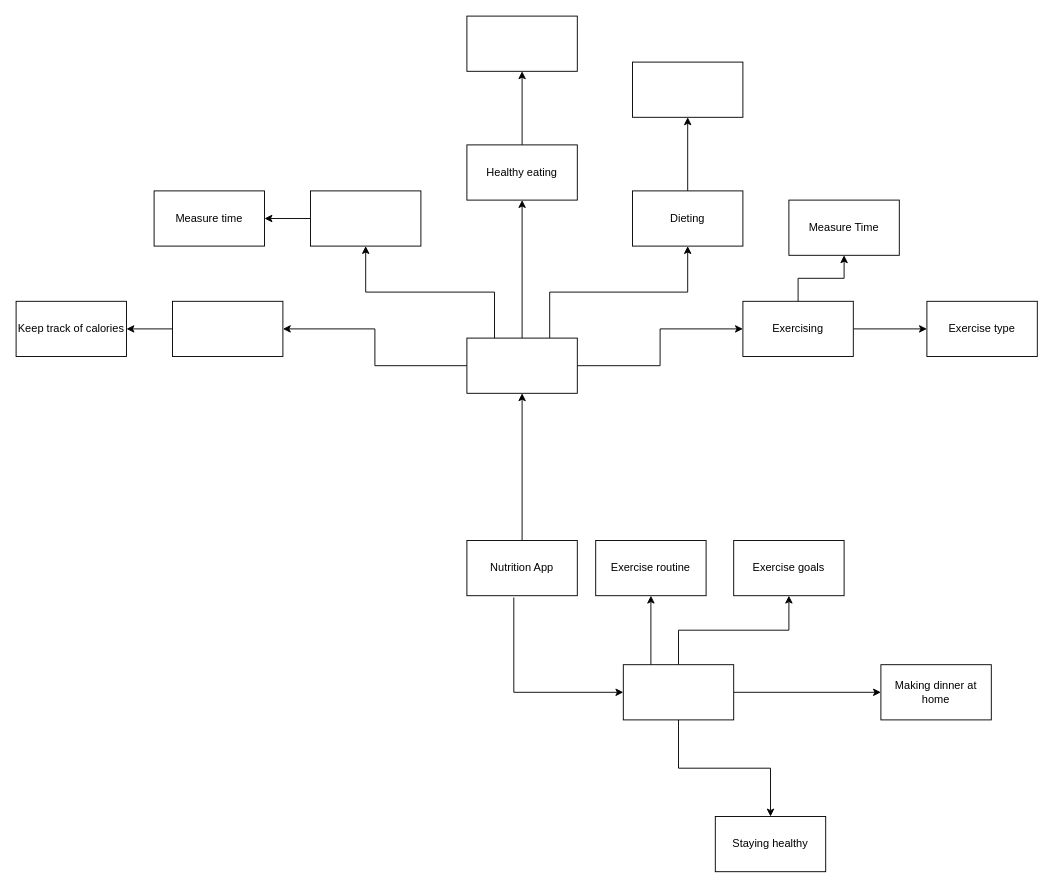
Image size: 1053x888. Some labels were removed from this diagram. The centre of each missing label's shape, as x and y in pixels:
"Fasting" belongs at (365,218).
"List of unhealthy foods" belongs at (521,43).
"Suggest healthy meals" belongs at (687,89).
"Uses" belongs at (678,692).
"Weight control" belongs at (227,328).
"Why" belongs at (521,365).
